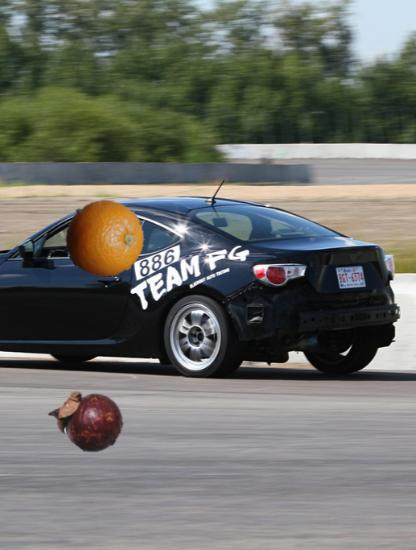Mangostan: (52, 382, 125, 455)
Orange: (65, 199, 144, 278)
